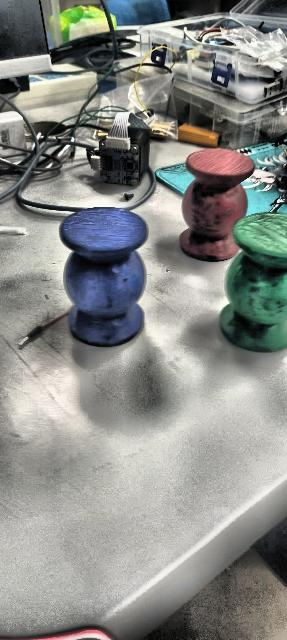blue: (60, 206, 148, 346)
green: (210, 212, 287, 354)
red: (178, 146, 258, 255)
